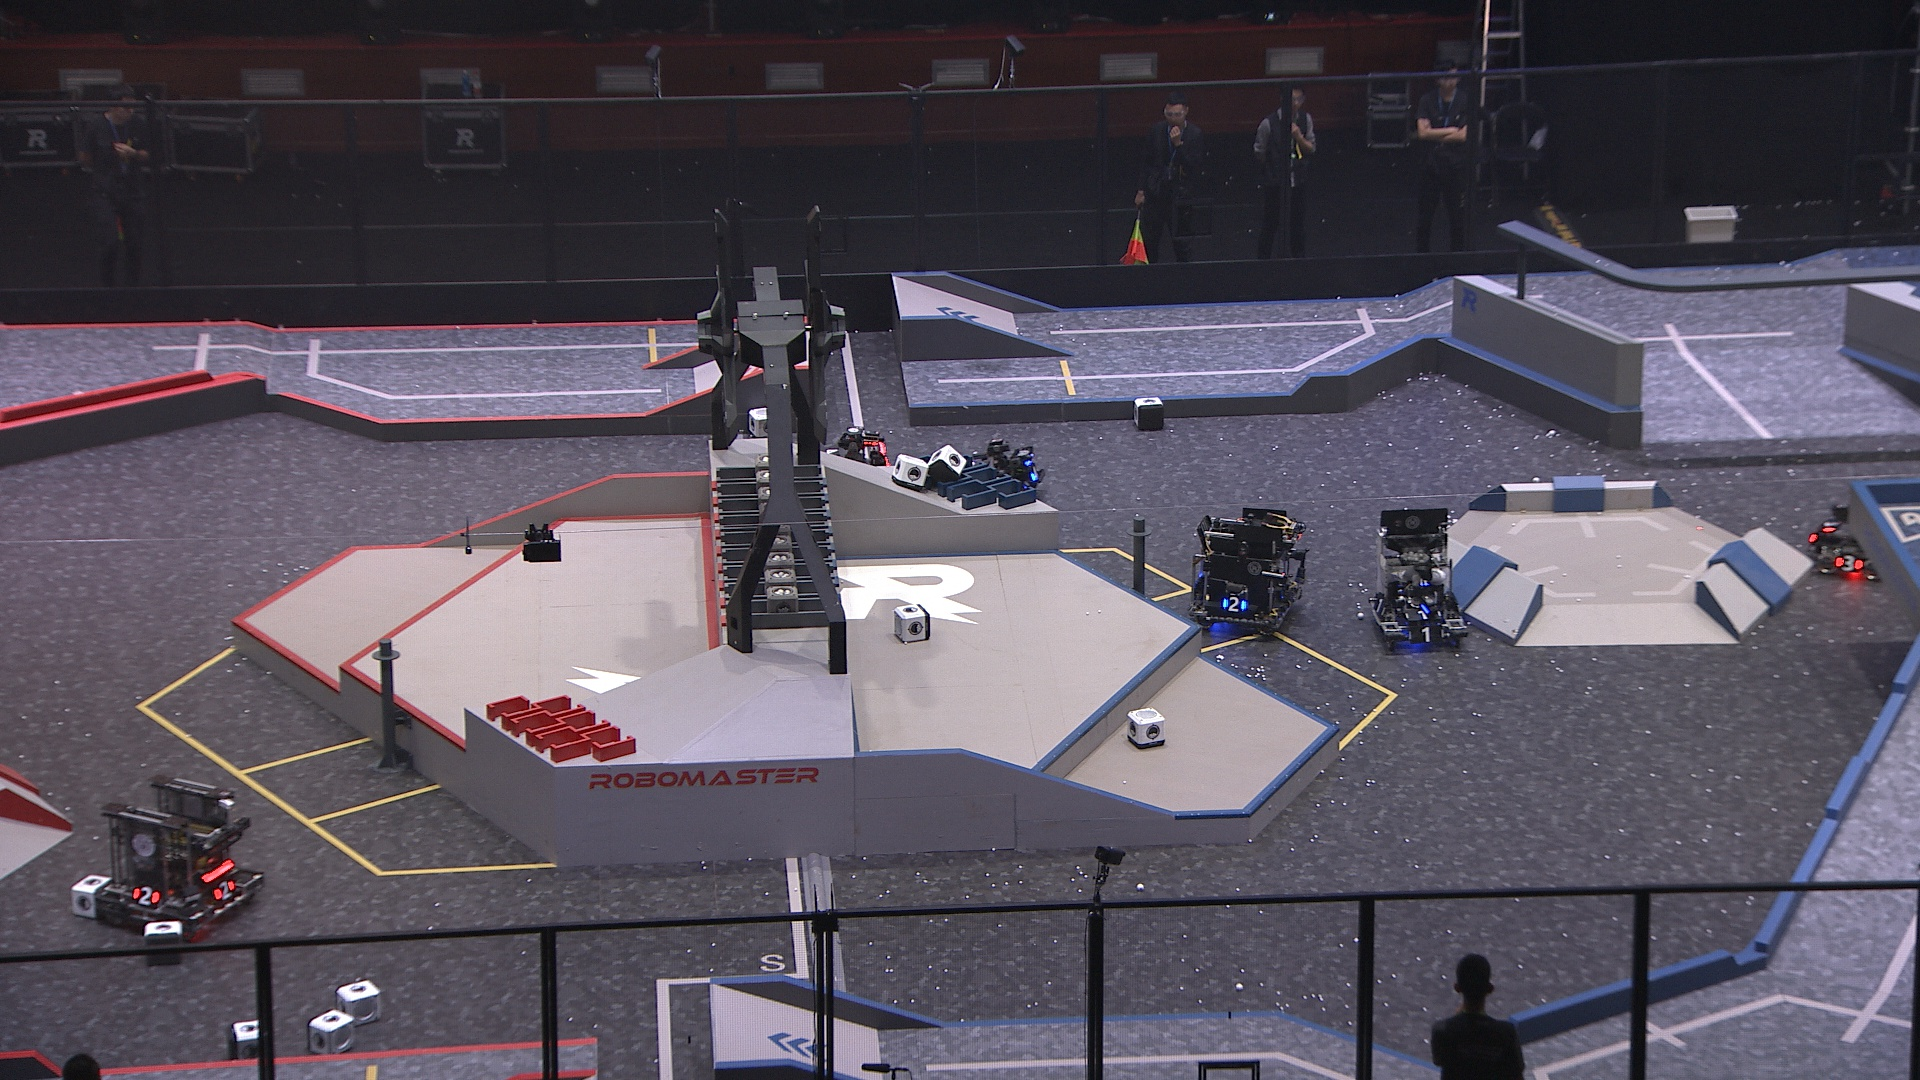armor: (1410, 624, 1443, 646), (131, 885, 161, 906), (1836, 553, 1865, 572), (214, 880, 237, 903), (1404, 608, 1443, 621), (1220, 597, 1249, 613), (1820, 516, 1840, 538), (1371, 595, 1389, 617), (1030, 465, 1040, 485)
car: (92, 775, 261, 930), (1192, 501, 1313, 636), (1367, 504, 1470, 651), (953, 440, 1048, 522), (1808, 501, 1898, 579), (818, 425, 898, 502)
